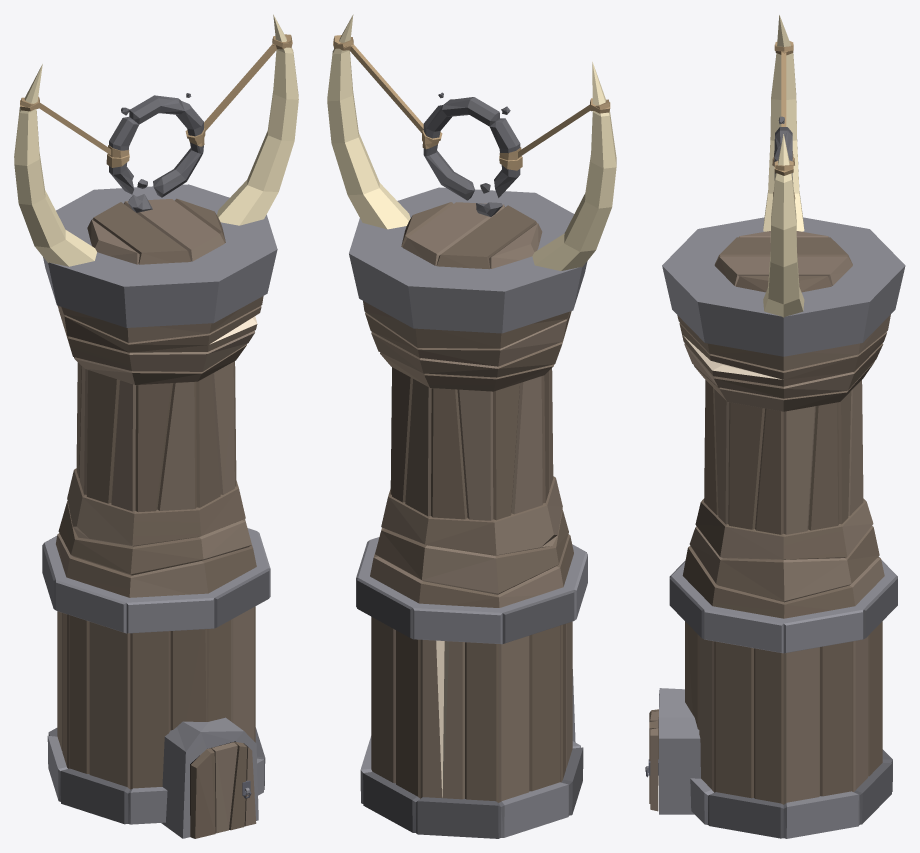
Rendered from _Fire_tower_LVL_1.fbx.
3 views of the same model, side by side, from view 1: azimuth 30°, elevation 25°; view 2: azimuth 150°, elevation 25°; view 3: azimuth 270°, elevation 25° (orthographic). The views are drawn at different scales.
Parts seen in each view (by area): view 1: Fire_tower_LVL_1; view 2: Fire_tower_LVL_1; view 3: Fire_tower_LVL_1.
Part boxes in pixels (<box>): Fire_tower_LVL_1: <box>14,14,298,838</box>; Fire_tower_LVL_1: <box>327,14,616,838</box>; Fire_tower_LVL_1: <box>645,15,905,838</box>.
Size of the model in its own units: 793 by 1998 by 647.
